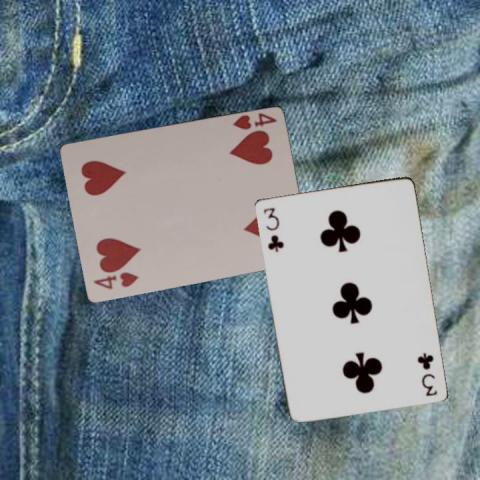3c: (260, 204, 285, 253), (415, 349, 438, 398)
4h: (90, 270, 140, 291), (229, 110, 278, 131)
